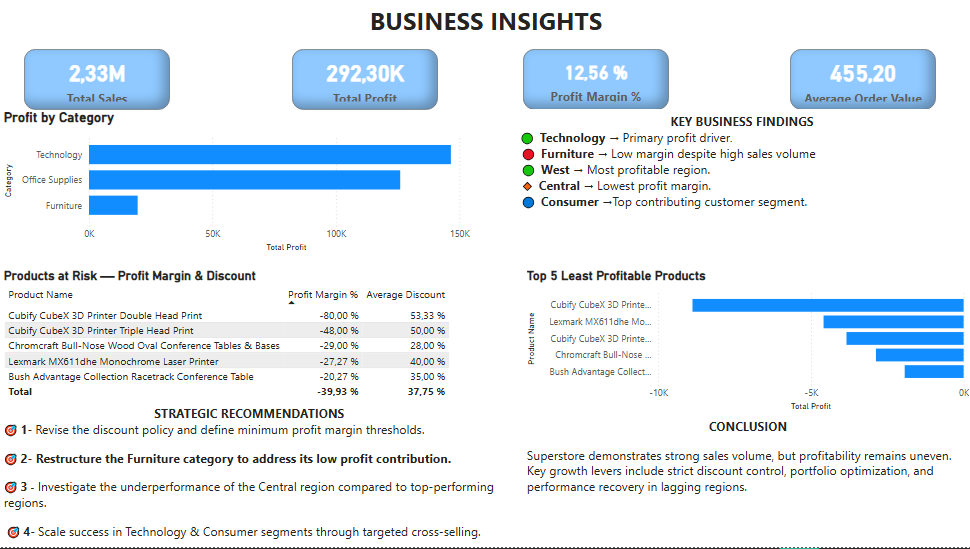

The page's visual inventory and layout, read from the dashboard file:
{"tool":"powerbi","page":{"name":"Business Insight","canvas":[1280,720],"ordinal":4},"visuals":[{"type":"textbox","box":[688,528,592,192],"z":0},{"type":"clusteredBarChart","title":" Profit by Category","fields":{"Category":["Fact_Orders.Category"],"Y":["Mesures.Total Profit"]},"box":[0,144,656,192],"z":1000},{"type":"clusteredBarChart","title":"Top 5 Least Profitable Products","fields":{"Category":["Fact_Orders.Product Name"],"Y":["Mesures.Total Profit"]},"box":[688,352,592,192],"z":2000},{"type":"tableEx","title":"Products at Risk — Profit Margin & Discount","fields":{"Values":["Fact_Orders.Product Name","Mesures.Profit Margin %","Mesures.Average Discount"]},"box":[0,352,672,192],"z":3000},{"type":"card","fields":{"Values":["Mesures.Total Sales"]},"box":[32,64,192,80],"z":4000},{"type":"card","fields":{"Values":["Mesures.Average Order Value"]},"box":[1040,64,192,80],"z":5000},{"type":"card","fields":{"Values":["Mesures.Total Profit"]},"box":[384,64,192,80],"z":6000},{"type":"card","fields":{"Values":["Mesures.Profit Margin %"]},"box":[688,64,192,80],"z":7000},{"type":"textbox","box":[672,144,608,192],"z":8000},{"type":"textbox","box":[32,0,1216,48],"z":9000},{"type":"textbox","box":[0,528,656,192],"z":10000}]}

Visuals, with their boxes in screenshot pixels (x1, y1, x2, y2), scaled from the page's 1280x720 canvas onto the 970x549 screenshot:
textbox: (521, 403, 969, 548)
" Profit by Category" clusteredBarChart: (0, 110, 497, 256)
"Top 5 Least Profitable Products" clusteredBarChart: (521, 268, 969, 415)
"Products at Risk — Profit Margin & Discount" tableEx: (0, 268, 509, 415)
card - Mesures.Total Sales: (24, 49, 170, 110)
card - Mesures.Average Order Value: (788, 49, 934, 110)
card - Mesures.Total Profit: (291, 49, 436, 110)
card - Mesures.Profit Margin %: (521, 49, 667, 110)
textbox: (509, 110, 969, 256)
textbox: (24, 0, 946, 37)
textbox: (0, 403, 497, 548)
